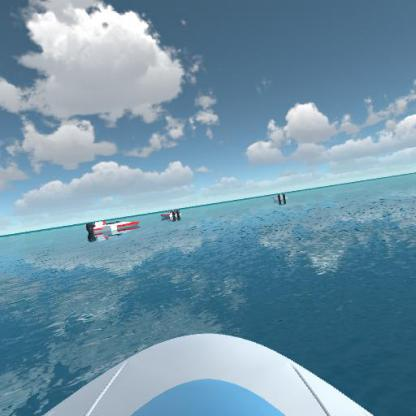usv1: (269, 191, 292, 207)
usv3: (84, 215, 144, 239), (159, 208, 184, 221)
